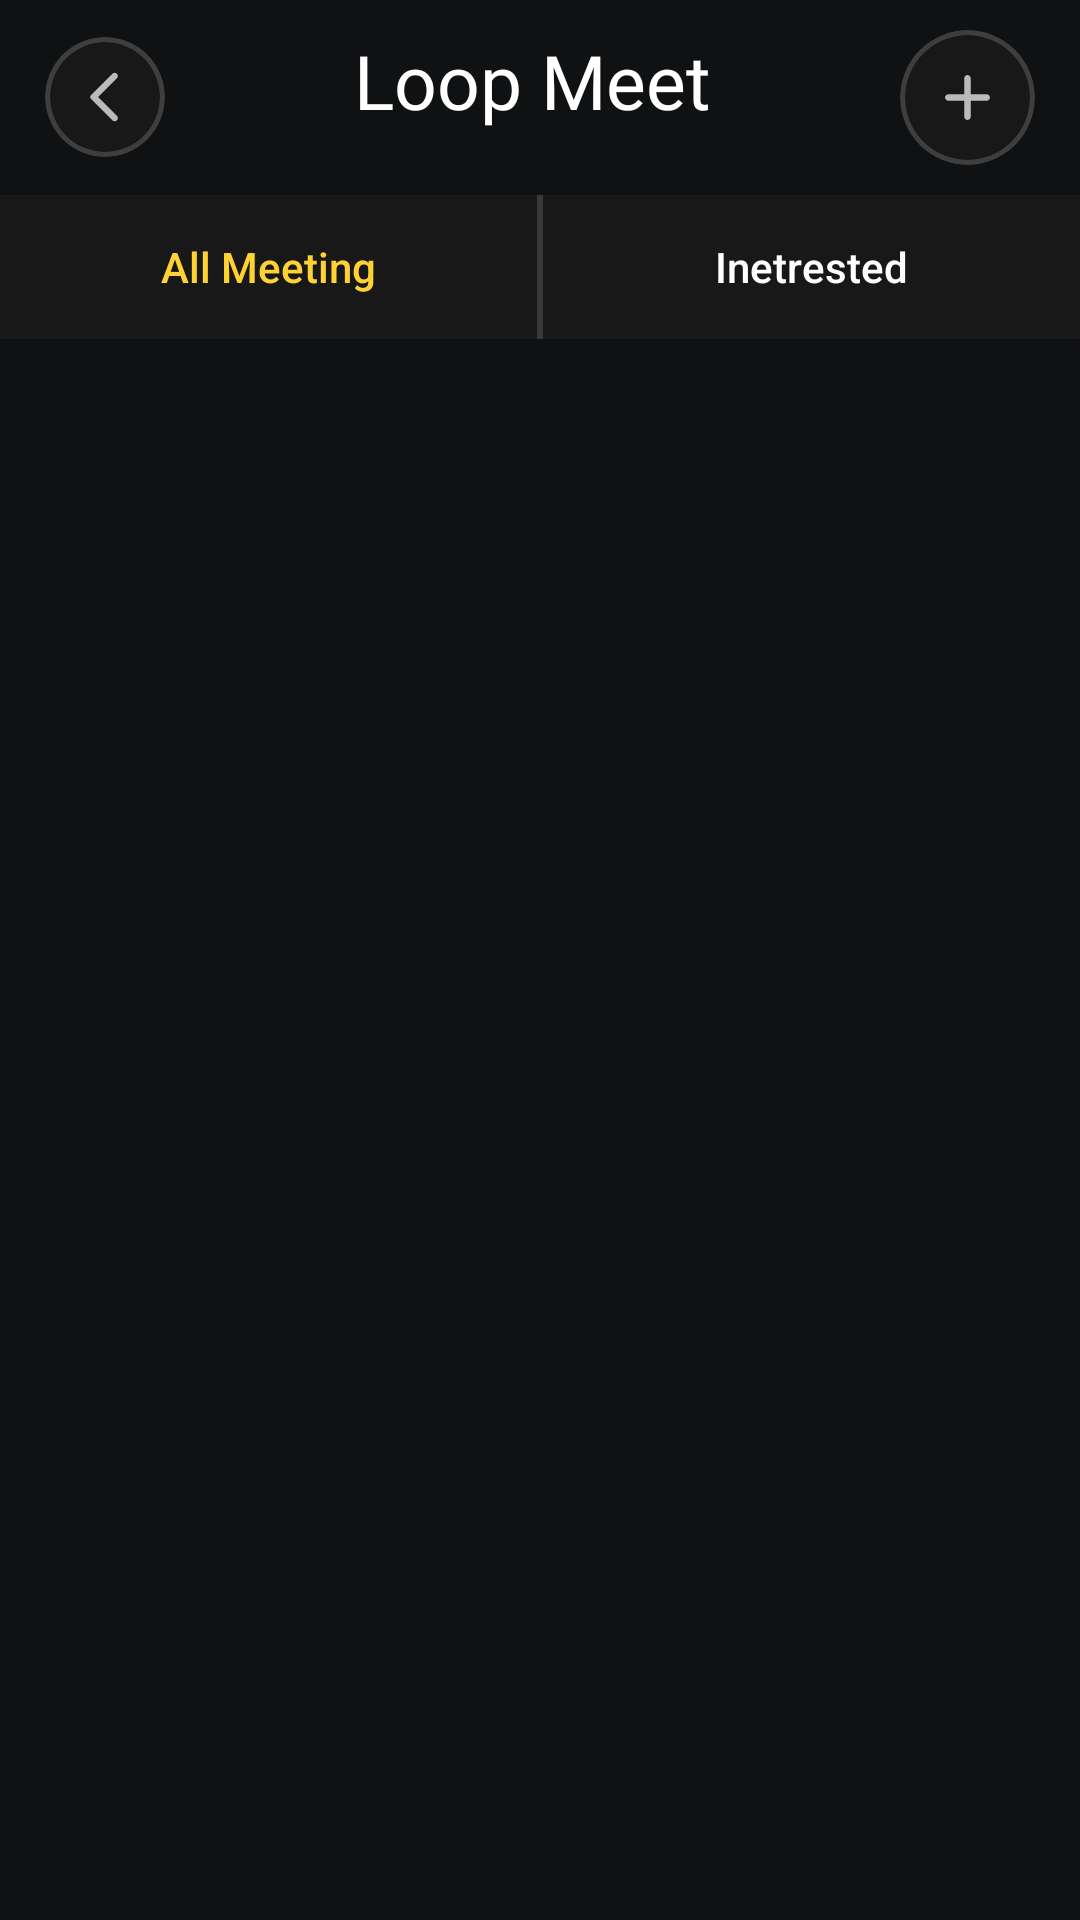

Point at icon controls on the screen. Image size 1080 × 1920, points as point (x, y).
add: point (967, 97)
back: point (104, 97)
